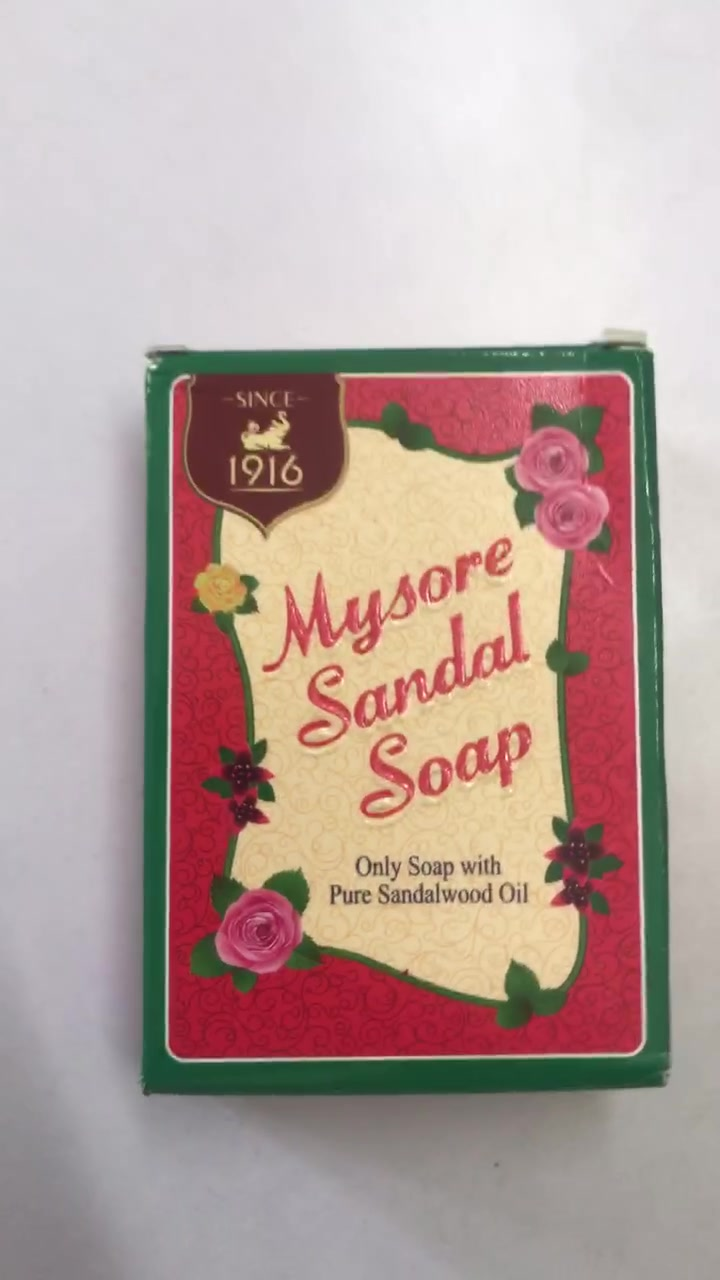mysore sandal soap: (139, 349, 674, 1096)
